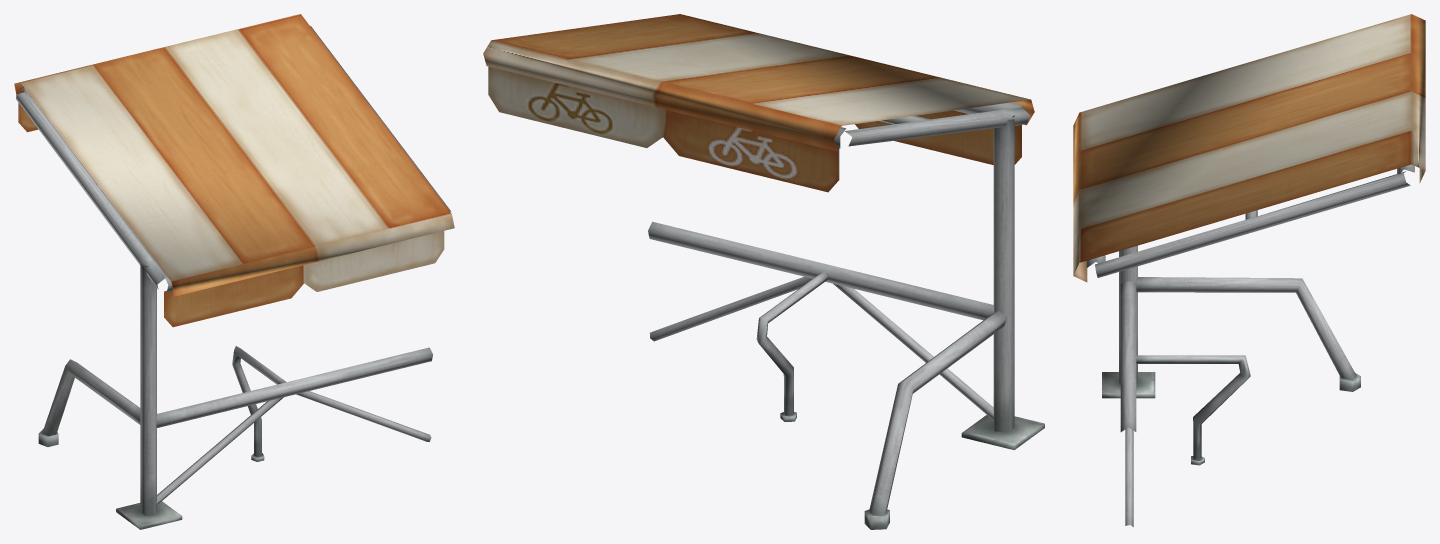
File: a_SEbike01_1.glb
3 views of the same model, side by side, from view 1: azimuth 30°, elevation 25°; view 2: azimuth 150°, elevation 25°; view 3: azimuth 270°, elevation 25° (orthographic). The views are drawn at different scales.
Visible parts, largest first — view 1: a_SEbike01_1; view 2: a_SEbike01_1; view 3: a_SEbike01_1.
Part boxes in pixels (bbox=[...]): a_SEbike01_1: bbox=[14, 14, 454, 529]; a_SEbike01_1: bbox=[483, 14, 1044, 529]; a_SEbike01_1: bbox=[1073, 14, 1425, 526].
Size of the model in its own units: 2.21 by 2.31 by 1.98.
Materials: 1 (1 with a texture image).
